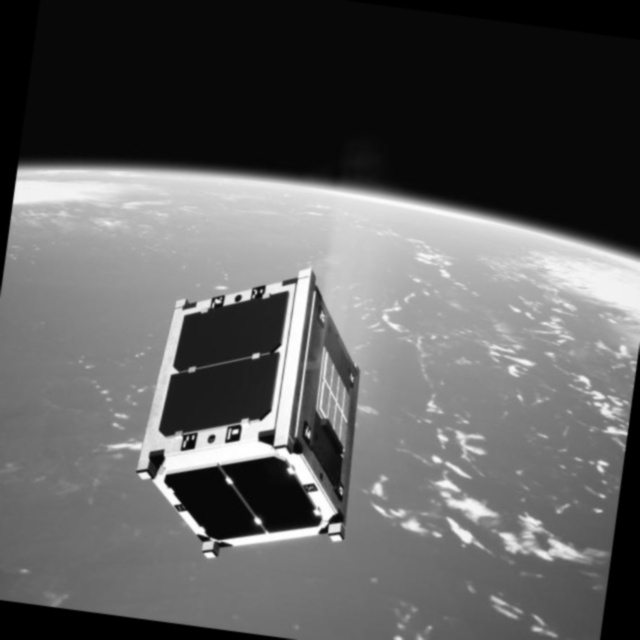satellite: (121, 254, 383, 575)
